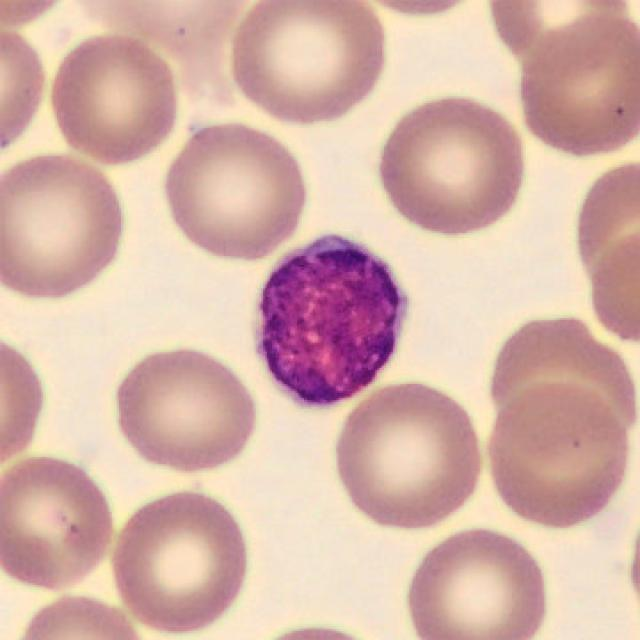Linfocito: (255, 236, 404, 408)
